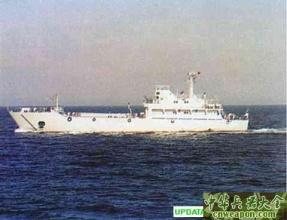Cargoship: (5, 71, 259, 133)
